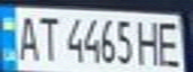4: (60, 14, 84, 63), (81, 15, 103, 64)
5: (115, 16, 139, 65)
6: (97, 16, 118, 64)
A: (12, 11, 42, 62)
E: (154, 18, 187, 69)
H: (136, 17, 163, 66)
T: (33, 12, 60, 63)
